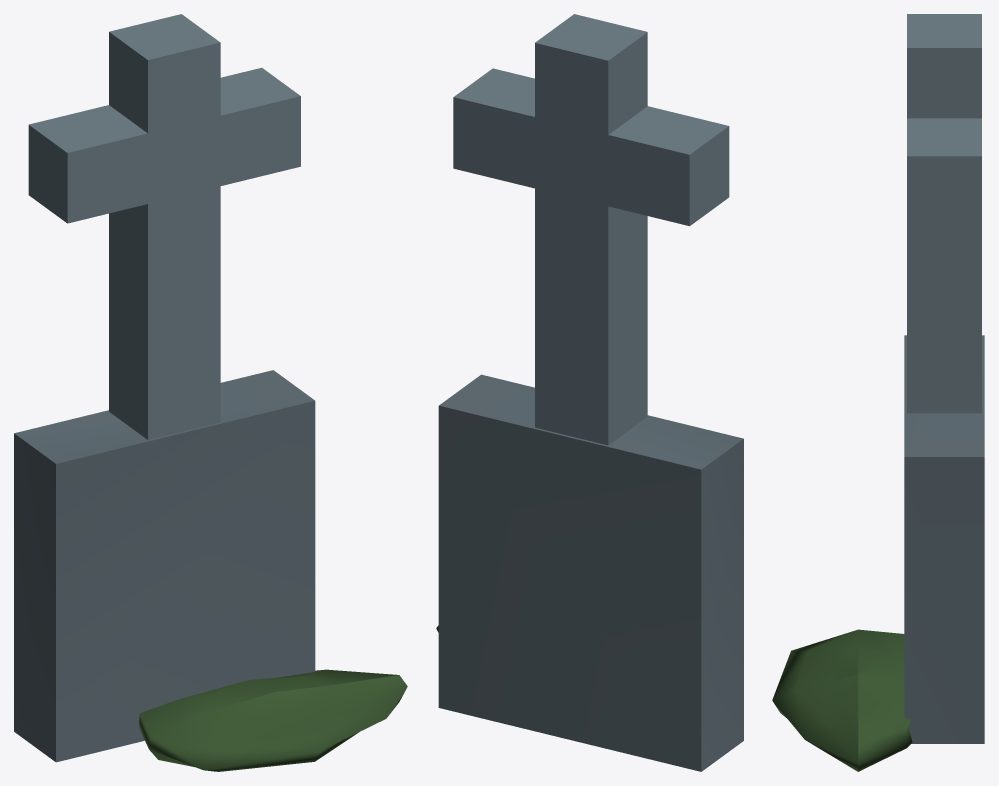
File: lapide_b.glb
The picture shows the model from 3 angles, left to right: view 1: azimuth 30°, elevation 25°; view 2: azimuth 150°, elevation 25°; view 3: azimuth 270°, elevation 25°; orthographic projection. The views are drawn at different scales.
Visible parts, largest first — view 1: Prop; view 2: Prop; view 3: Prop.
Boxes of the visible parts, <box> form: Prop: <box>14,14,407,771</box>; Prop: <box>436,14,743,771</box>; Prop: <box>772,14,984,771</box>.
Size of the model in its own units: 1.26 by 2.55 by 0.7388.
